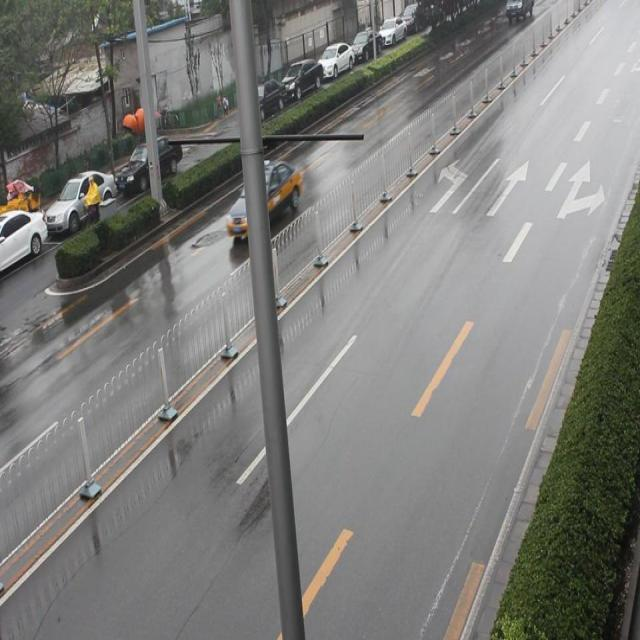car: (226, 158, 298, 246)
